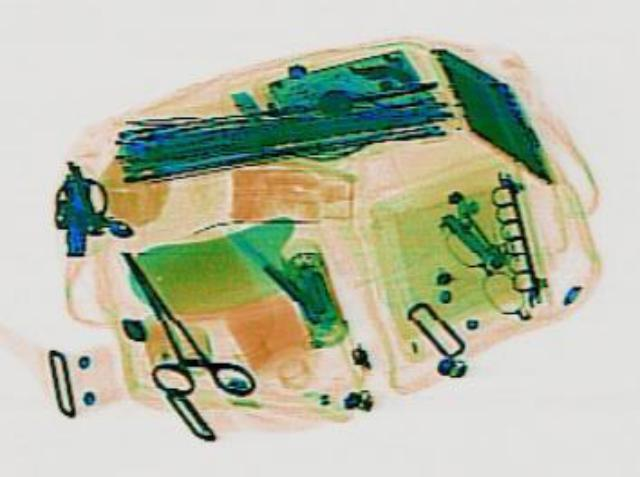Scissors: (80, 237, 260, 412)
